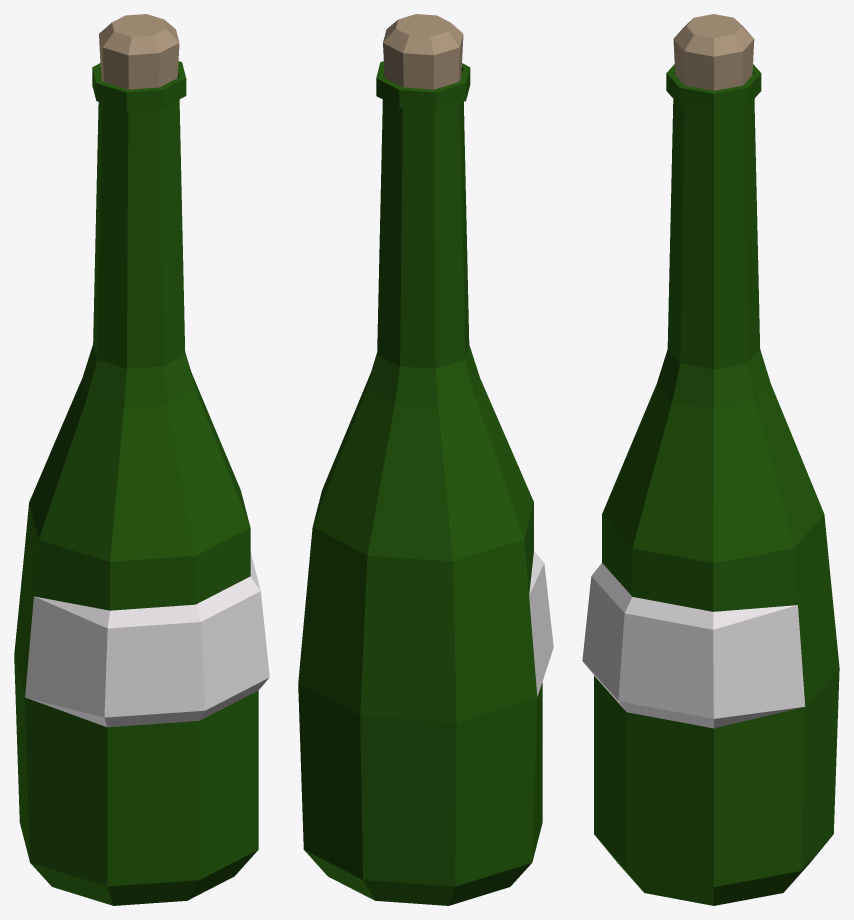
Rendered from Wine.fbx.
3 views of the same model, side by side, from view 1: azimuth 30°, elevation 25°; view 2: azimuth 150°, elevation 25°; view 3: azimuth 270°, elevation 25° (orthographic).
Parts seen in each view (by area): view 1: Wine; view 2: Wine; view 3: Wine.
Boxes of the visible parts, x1=… form: Wine: x1=14, y1=14, x2=269, y2=905; Wine: x1=298, y1=14, x2=553, y2=905; Wine: x1=582, y1=14, x2=839, y2=905.
Bounding box in the file's own units: 7.28 × 25.06 × 6.98.
